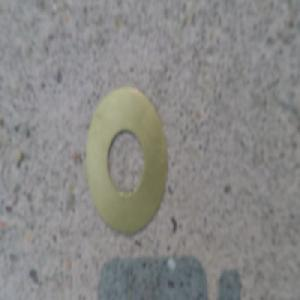Washer: (83, 84, 168, 229)
